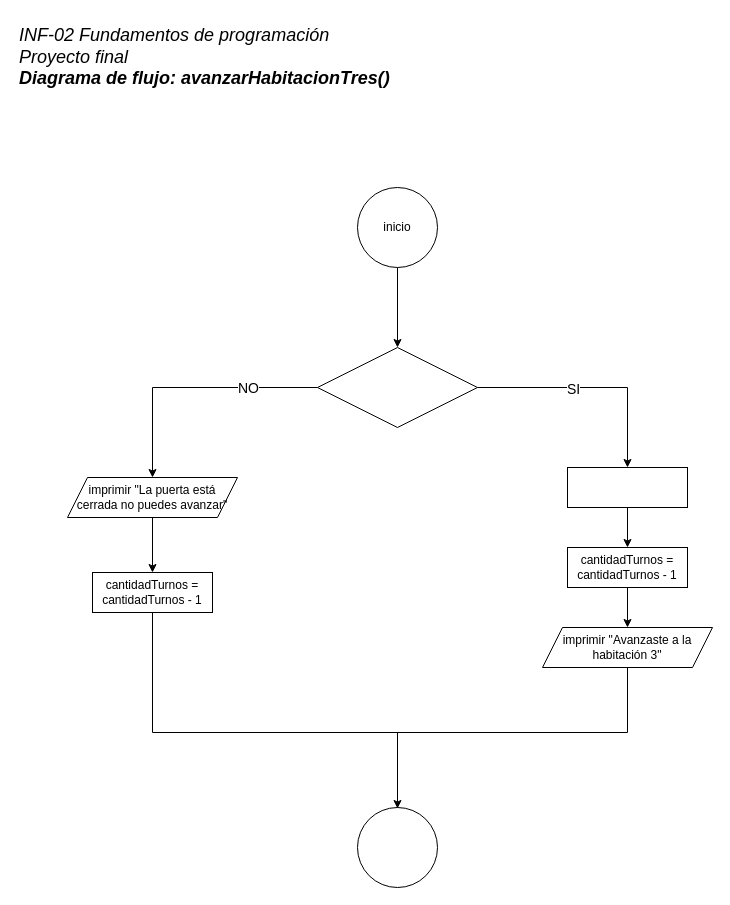
Image size: 730x905. Some labels were removed from this diagram. The shapes that lost their labels are listed below. From the top down, each one's centre as x and y in pixels, then its label:
pixel 397 387: puertasAbiertas[1]
pixel 627 487: ubicacionMapa = 3
pixel 397 847: Fin
